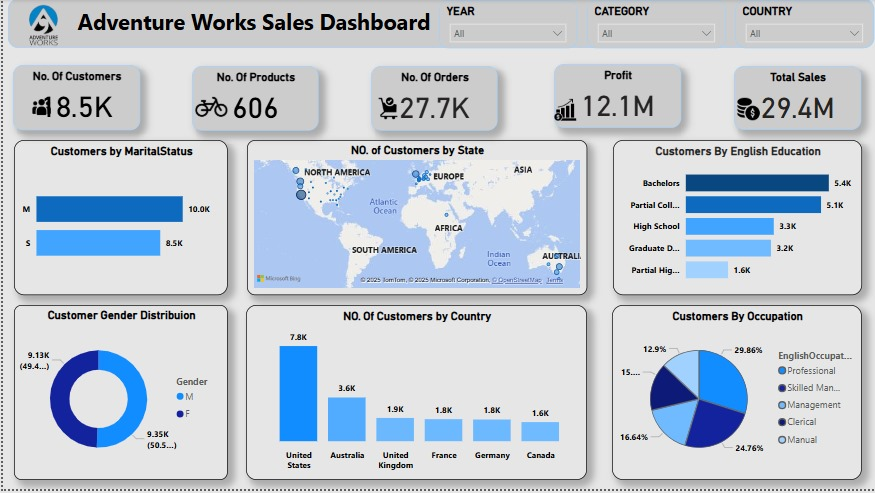

Layout of this report page (visuals, bound fields, positions):
{"tool":"powerbi","page":{"name":"Customer","canvas":[1280,720],"ordinal":0},"visuals":[{"type":"donutChart","title":"Customer Gender Distribuion","fields":{"Y":["Count(DimCustomer.CustomerKey)"],"Category":["DimCustomer.Gender"]},"box":[16.2,449.6,314.4,257.1],"z":0},{"type":"card","title":"No. Of Customers","fields":{"Values":["Count(DimCustomer.CustomerKey)"]},"box":[14,97.2,186.6,95.5],"z":1000,"group":"g5"},{"type":"barChart","title":"Customers by MaritalStatus","fields":{"Y":["CountNonNull(DimCustomer.CustomerKey)"],"Category":["DimCustomer.MaritalStatus"]},"box":[16.2,207.2,314.4,227.8],"z":1000},{"type":"card","title":"Total Sales","fields":{"Values":["Sum(FactInternetSales.SalesAmount)"]},"box":[1074.1,98.7,186.7,94],"z":2000,"group":"g1"},{"type":"pieChart","title":"Customers By Occupation","fields":{"Category":["DimCustomer.EnglishOccupation"],"Y":["CountNonNull(DimCustomer.CustomerKey)"]},"box":[894.9,449.6,367.3,257.1],"z":2000},{"type":"card","title":"No. Of Orders","fields":{"Values":["Count(FactInternetSales.SalesOrderNumber)"]},"box":[541.4,98,186.3,94.6],"z":3000,"group":"g4"},{"type":"barChart","title":"Customers By English Education","fields":{"Y":["CountNonNull(DimCustomer.CustomerKey)"],"Category":["DimCustomer.EnglishEducation"]},"box":[896.3,207.2,365.9,227.8],"z":3000},{"type":"card","title":"No. Of Products","fields":{"Values":["Count(DimProduct.ProductKey)"]},"box":[277.6,98,186,94.6],"z":4000,"group":"g3"},{"type":"columnChart","title":"NO. Of Customers by Country","fields":{"Category":["DimSalesTerritory.SalesTerritoryCountry"],"Y":["CountNonNull(DimCustomer.CustomerKey)"]},"box":[357.1,449.6,501.1,257.1],"z":4000},{"type":"map","title":"NO. of Customers by State","fields":{"Size":["CountNonNull(DimCustomer.CustomerKey)"],"Category":["DimGeography.StateProvinceName"]},"box":[358.5,207.2,499.6,227.8],"z":5000},{"type":"textbox","box":[7.3,0,1273,72],"z":6000},{"type":"slicer","title":"YEAR","fields":{"Values":["DimDate.CalendarYear"]},"box":[640.7,1.5,202.8,70.5],"z":7000},{"type":"slicer","title":"COUNTRY","fields":{"Values":["DimGeography.EnglishCountryRegionName"]},"box":[1075.6,1.5,204.2,70.5],"z":8000},{"type":"slicer","title":"CATEGORY","fields":{"Values":["DimProductCategory.EnglishProductCategoryName"]},"box":[858.1,1.5,204.2,70.5],"z":9000},{"type":"card","title":"Profit","fields":{"Values":["FactInternetSales.profit"]},"box":[809.5,95.8,186.6,94],"z":9000,"group":"g2"},{"type":"group","id":"g1","title":"Group 1","box":[1074.1,98.7,186.6,92.6],"z":10000},{"type":"group","id":"g2","title":"Group 2","box":[804.7,95.8,192.5,98.4],"z":11000},{"type":"group","id":"g3","title":"Group 3","box":[277.6,98,186.6,94],"z":12000},{"type":"group","id":"g4","title":"Group 4","box":[541.1,98,186.6,94],"z":13000},{"type":"group","id":"g5","title":"Group 5","box":[14,97.2,186.6,95.5],"z":14000},{"type":"image","box":[38.1,127.2,36.7,65],"z":14001,"group":"g5"},{"type":"image","box":[541.1,139,50,41.7],"z":14003,"group":"g4"},{"type":"image","box":[277.7,127.4,56.7,60],"z":14004,"group":"g3"},{"type":"image","box":[804.7,131.2,41.7,63.3],"z":14005,"group":"g2"},{"type":"image","box":[1074.1,135.4,43.3,53.3],"z":14006,"group":"g1"},{"type":"image","box":[16.2,1.5,82.3,73.5],"z":15001}]}

Visuals, with their boxes in screenshot pixels (x1, y1, x2, y2), scaled from the page's 1280x720 canvas onto the 875x493 screenshot:
"Customer Gender Distribuion" donutChart: 11:308:226:484
"No. Of Customers" card: 10:67:137:132
"Customers by MaritalStatus" barChart: 11:142:226:298
"Total Sales" card: 734:68:862:132
"Customers By Occupation" pieChart: 612:308:863:484
"No. Of Orders" card: 370:67:497:132
"Customers By English Education" barChart: 613:142:863:298
"No. Of Products" card: 190:67:317:132
"NO. Of Customers by Country" columnChart: 244:308:587:484
"NO. of Customers by State" map: 245:142:587:298
textbox: 5:0:874:49
"YEAR" slicer: 438:1:577:49
"COUNTRY" slicer: 735:1:874:49
"CATEGORY" slicer: 587:1:726:49
"Profit" card: 553:66:681:130
"Group 1" group: 734:68:862:131
"Group 2" group: 550:66:682:133
"Group 3" group: 190:67:317:131
"Group 4" group: 370:67:497:131
"Group 5" group: 10:67:137:132
image: 26:87:51:132
image: 370:95:404:124
image: 190:87:229:128
image: 550:90:579:133
image: 734:93:764:129
image: 11:1:67:51
